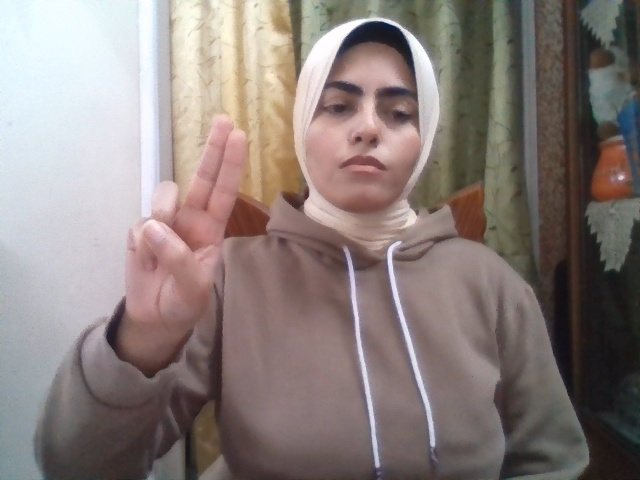U: (125, 113, 246, 328)
